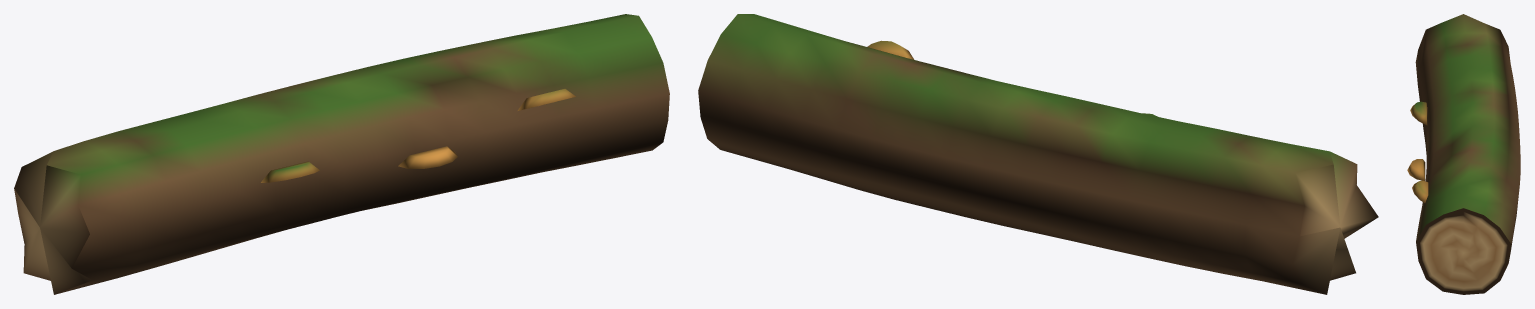
File: log.glb
The picture shows the model from 3 angles, left to right: view 1: azimuth 30°, elevation 25°; view 2: azimuth 150°, elevation 25°; view 3: azimuth 270°, elevation 25°; orthographic projection. The views are drawn at different scales.
Visible parts, largest first — view 1: log; view 2: log; view 3: log.
Boxes of the visible parts, left/top/right/bottom form: log: left=14, top=14, right=669, bottom=294; log: left=698, top=14, right=1378, bottom=294; log: left=1407, top=14, right=1520, bottom=294.
Bounding box in the file's own units: 4.01 × 0.8338 × 0.9505.
